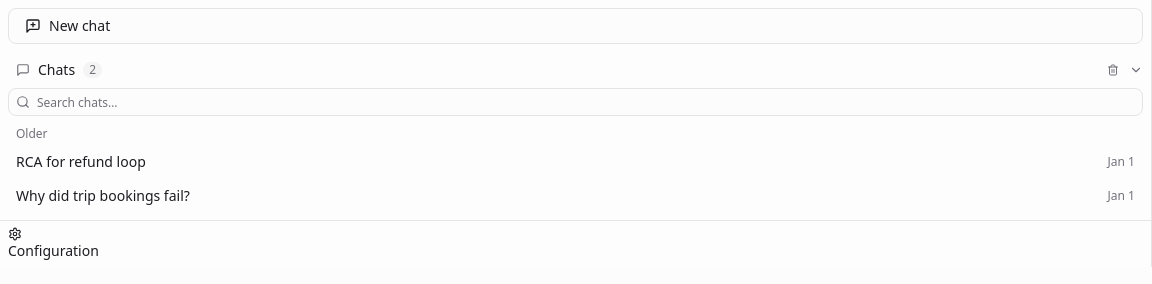
Scenario: ChatListSidebar's Chats section › counts the chats a search leaves, not all of them
Expected: the button "Chats 2" is shown, left=16, top=60, right=1097, bottom=80
In the search field labelled "Search chats": (576, 102) left=8, top=88, right=1143, bottom=116, type "refund"
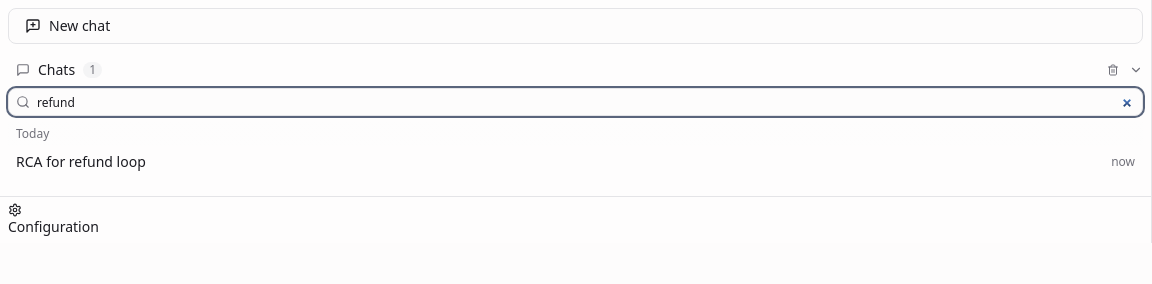
Expected: the button "Chats 1" is shown, left=16, top=60, right=1097, bottom=80
